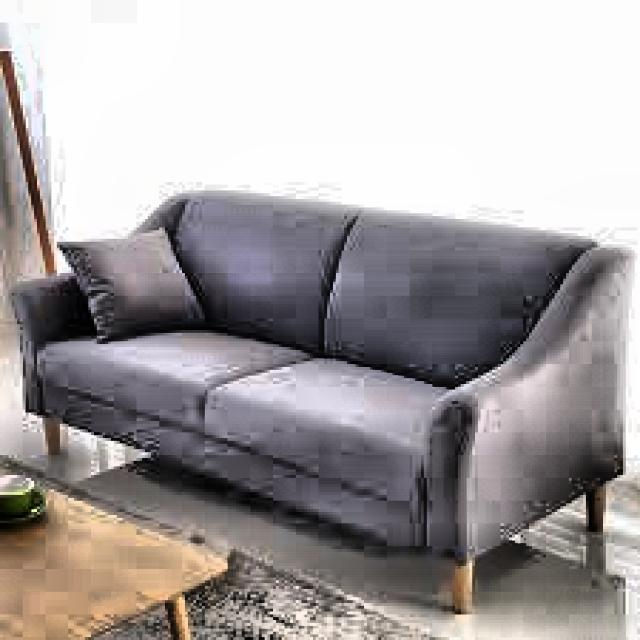sofa: (11, 182, 634, 609)
